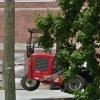Tractor: (16, 32, 97, 100)
